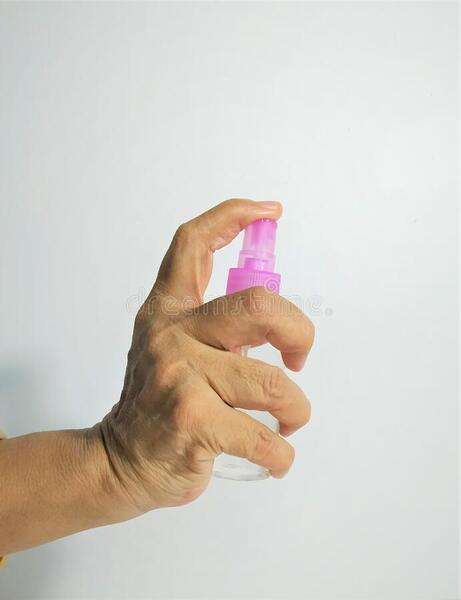sanitizer: (228, 216, 279, 485)
